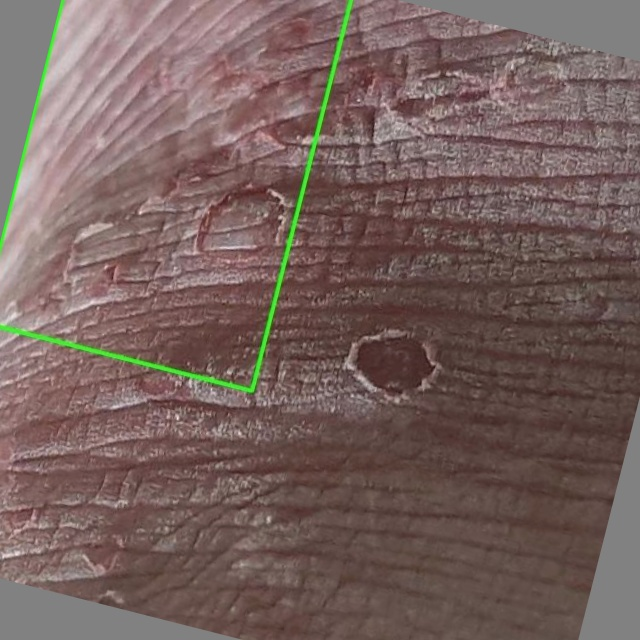Contact Dermatitis: (0, 0, 352, 390)
